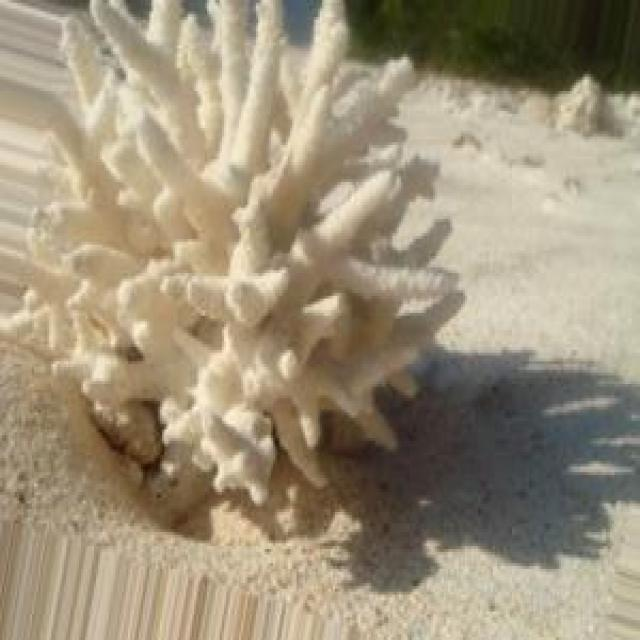bleached coral: (35, 0, 462, 504)
